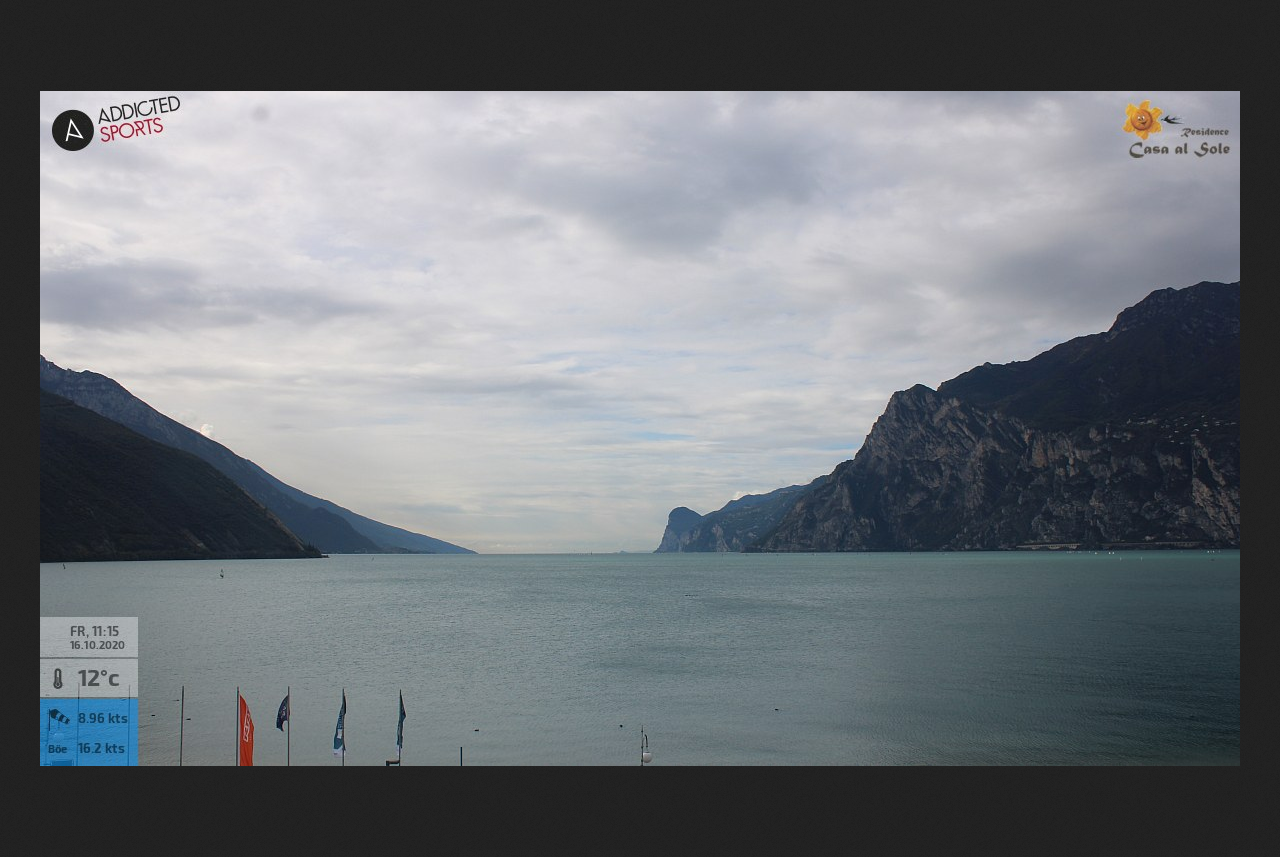maybe: (230, 676, 261, 769), (270, 682, 296, 738)
no: (331, 689, 351, 758), (394, 683, 413, 750)
